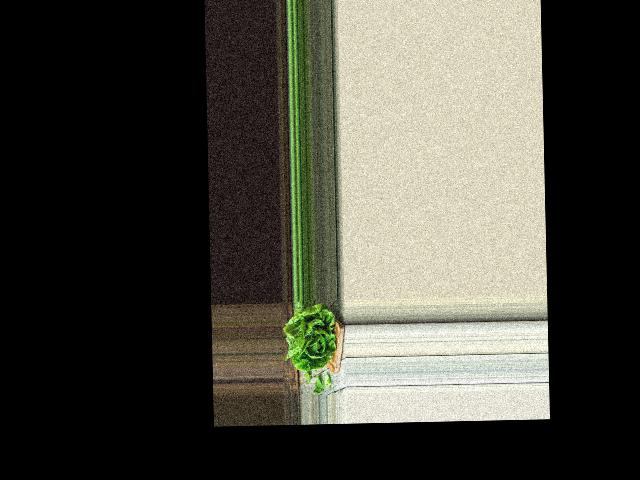lettuce: (284, 302, 339, 368)
